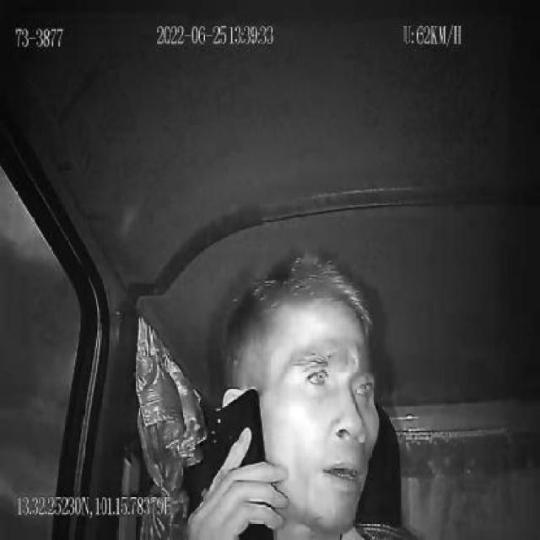phone: (208, 383, 274, 540)
